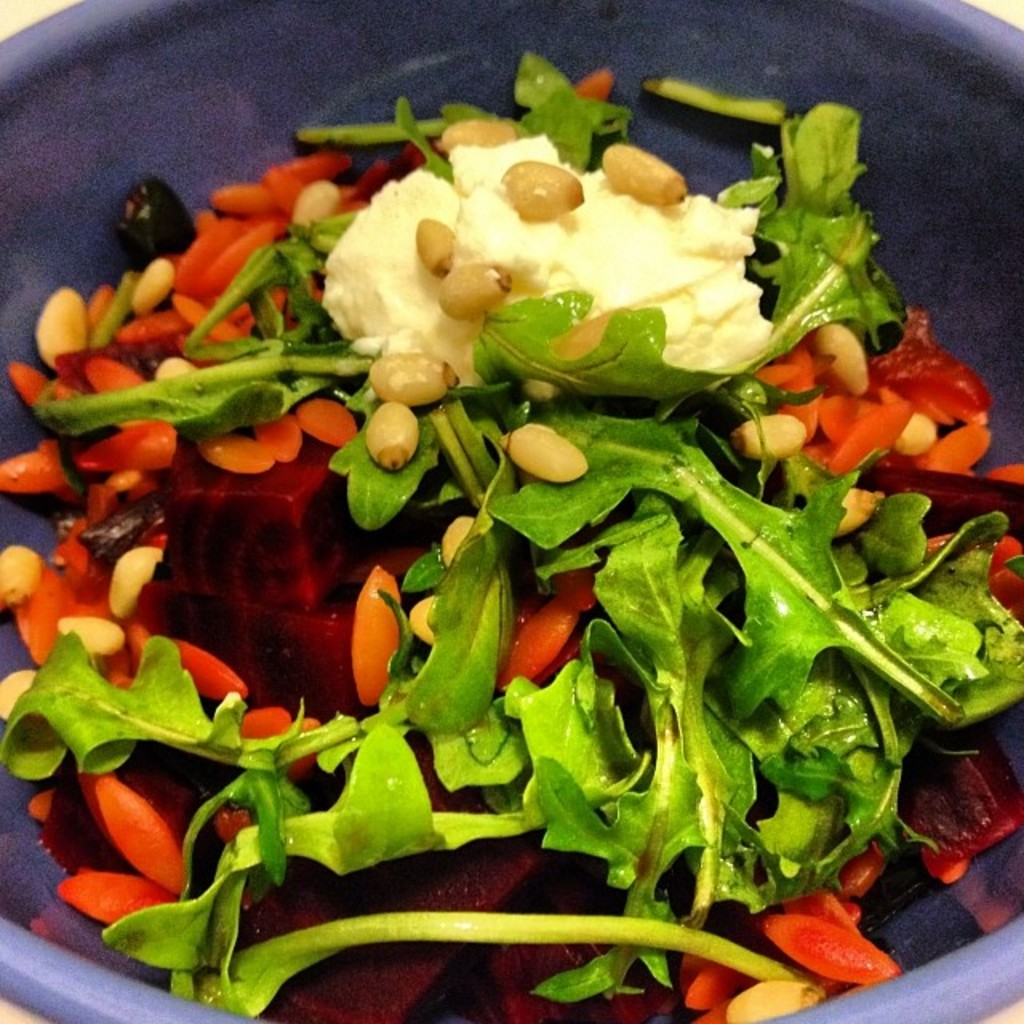salad: (0, 32, 1022, 1022)
